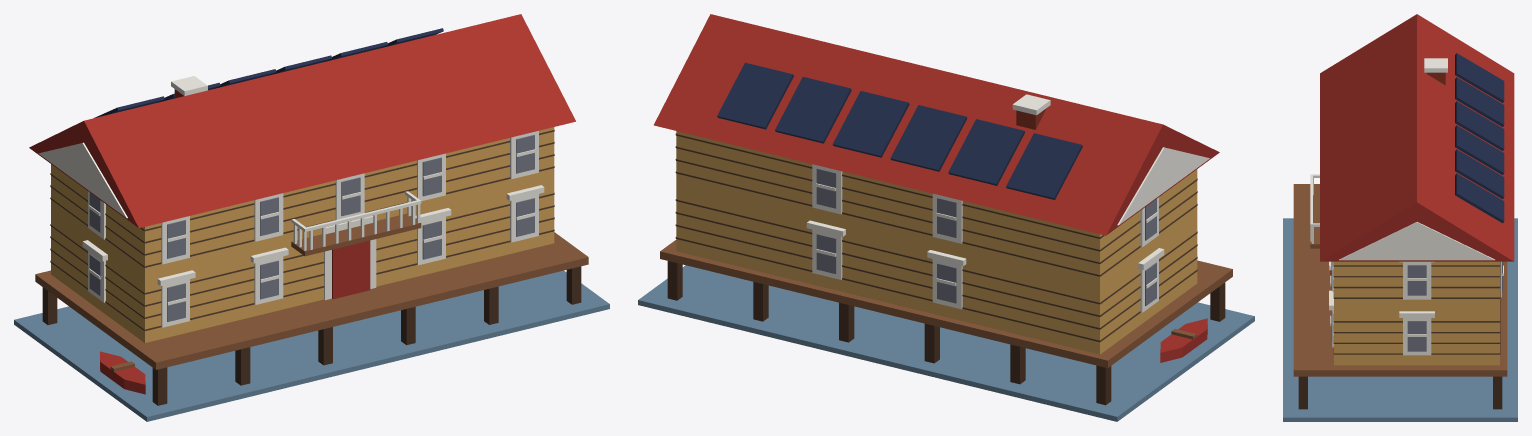
File: house-2x1-2f-third-palafito-a-solar.glb
The picture shows the model from 3 angles, left to right: view 1: azimuth 30°, elevation 25°; view 2: azimuth 150°, elevation 25°; view 3: azimuth 270°, elevation 25°; orthographic projection. The views are drawn at different scales.
Parts seen in each view (by area): view 1: house-2x1-2f-third-palafito-a-solar; view 2: house-2x1-2f-third-palafito-a-solar; view 3: house-2x1-2f-third-palafito-a-solar.
Part boxes in pixels (box(x1,y1,x2,y2)): house-2x1-2f-third-palafito-a-solar: box(14, 14, 609, 421); house-2x1-2f-third-palafito-a-solar: box(638, 14, 1254, 421); house-2x1-2f-third-palafito-a-solar: box(1283, 14, 1517, 421).
Bounding box in the file's own units: 1.99 × 1 × 0.99.
1 material, 1 textured.
